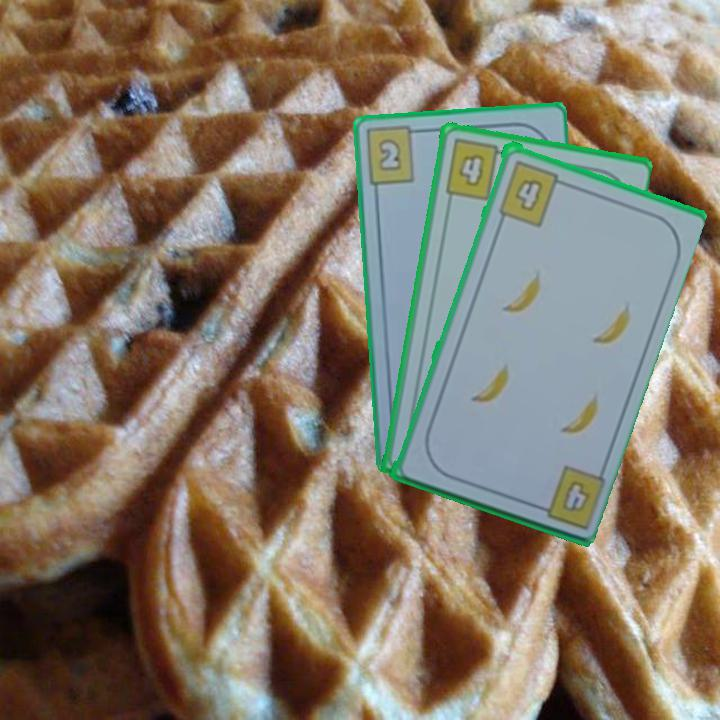2b: (362, 124, 427, 188)
4b: (527, 460, 606, 532), (494, 156, 569, 228), (441, 135, 511, 203)
